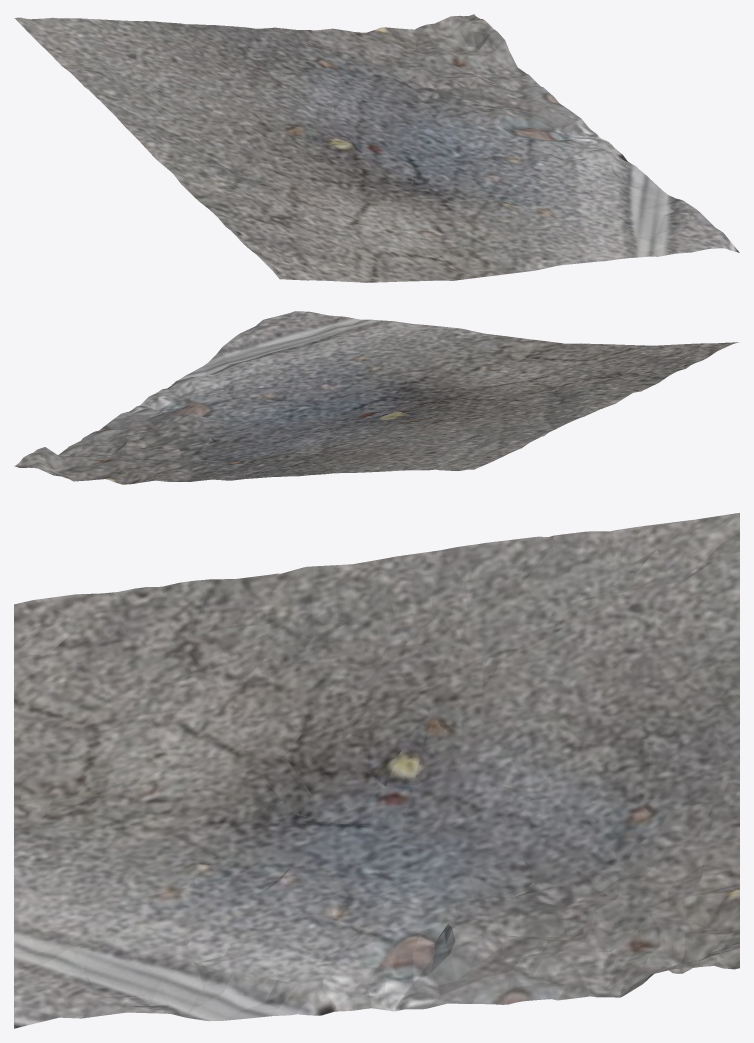
3 renders of one model, top to bottom at view 1: azimuth 30°, elevation 25°; view 2: azimuth 150°, elevation 25°; view 3: azimuth 270°, elevation 25°, orthographic. The views are drawn at different scales.
Size of the model in its own units: 1.67 by 0.5317 by 1.67.
Materials: 2 (2 with a texture image).
